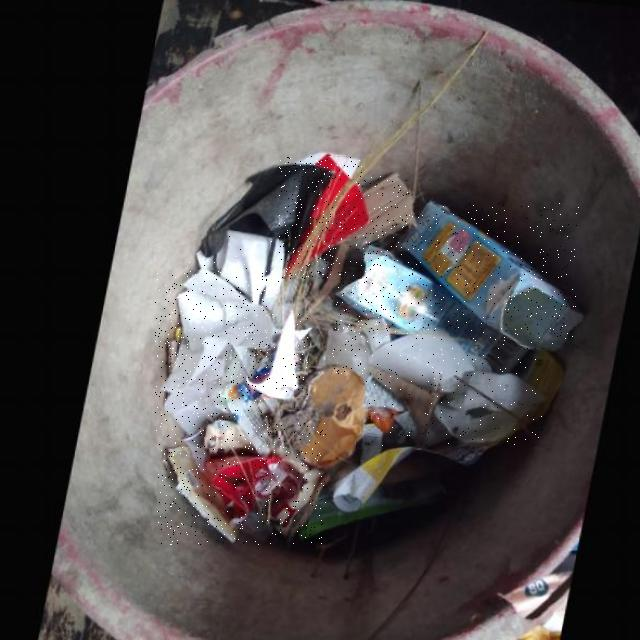paper: (394, 203, 579, 355), (332, 242, 518, 376), (363, 332, 543, 445), (155, 271, 267, 437), (280, 156, 362, 278), (189, 232, 279, 311), (239, 312, 308, 398), (332, 176, 409, 250)
wrapper: (158, 423, 326, 545)
